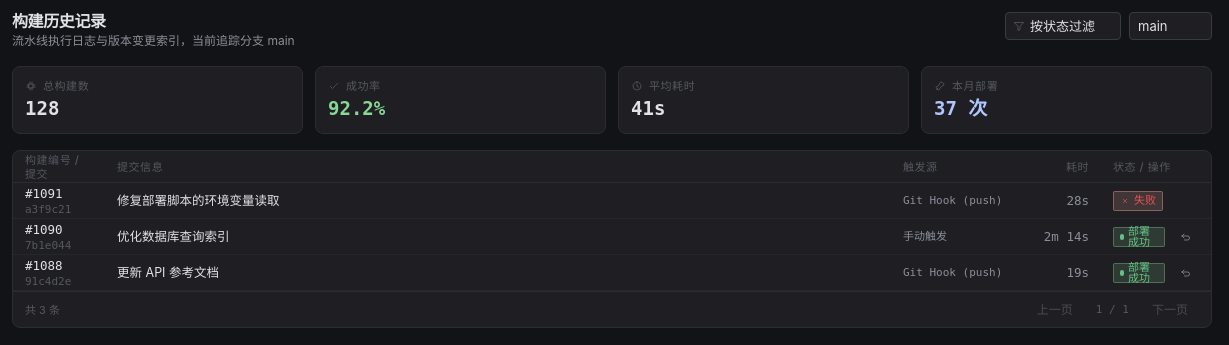
BuildHistoryView › 过滤后无结果时显示空状态，而不是空表格
Select "已回滚" in the 1st dropdown at (1063, 26), box [1005,12,1121,40]
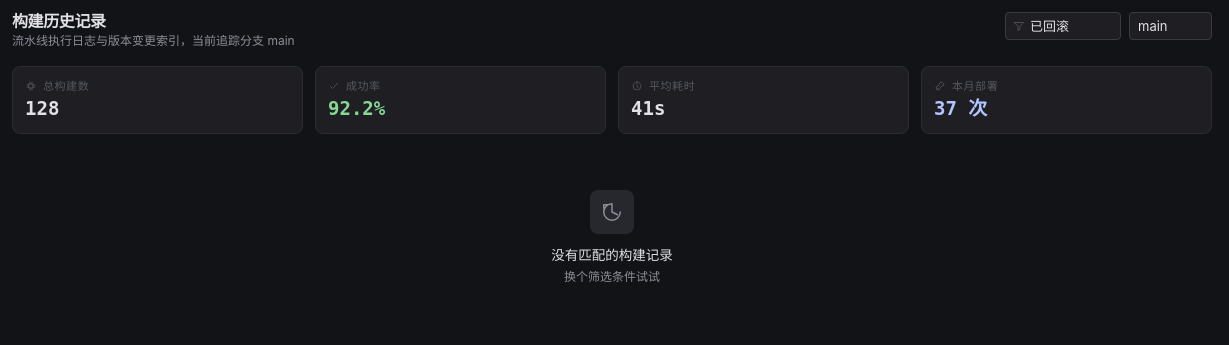
Now the text "没有匹配的构建记录" is shown, box [551,246,673,264]
